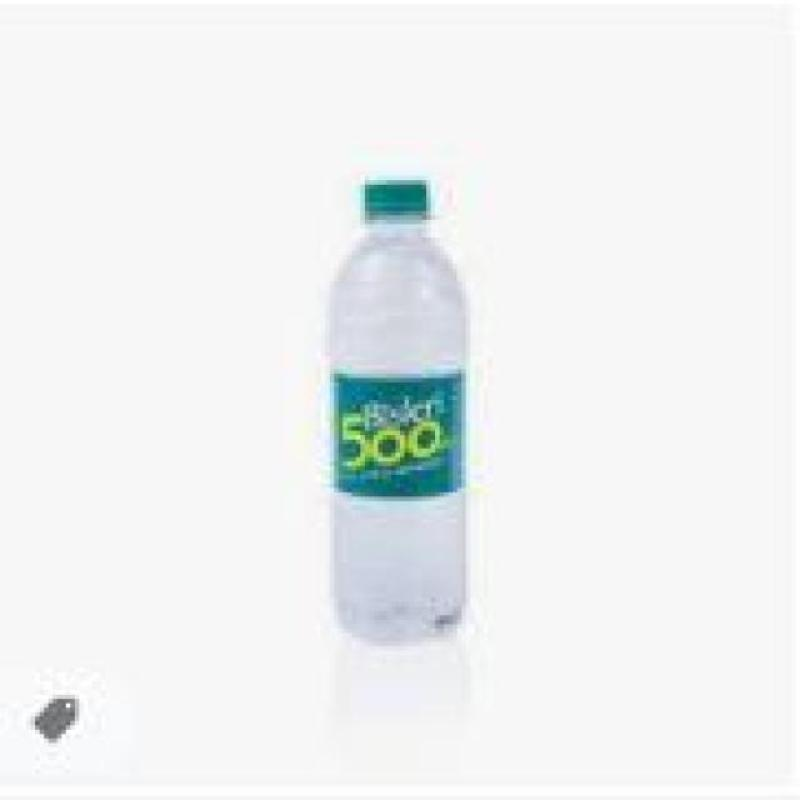botella: (325, 178, 470, 648)
